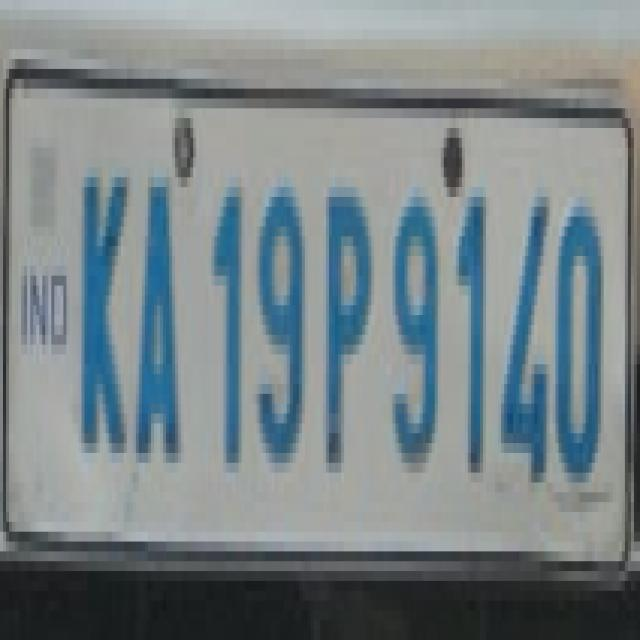0: (551, 168, 604, 520)
1: (454, 172, 496, 492), (210, 160, 250, 486)
4: (500, 168, 550, 502)
9: (386, 172, 441, 485), (254, 172, 305, 487)
A: (134, 168, 183, 473)
K: (76, 136, 130, 474)
P: (320, 168, 372, 493)
